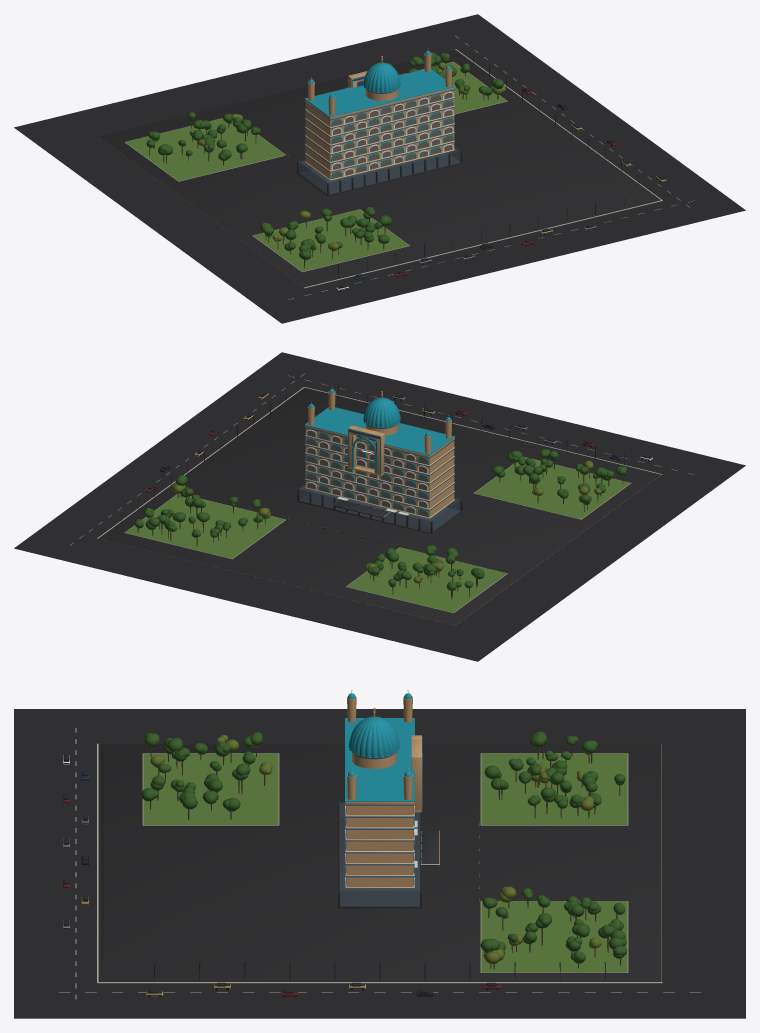
Rendered from cmv4yshkj00kf7dsc7r51nlwx.glb.
3 views of the same model, one above another, from view 1: azimuth 30°, elevation 25°; view 2: azimuth 150°, elevation 25°; view 3: azimuth 270°, elevation 25° (orthographic). The views are drawn at different scales.
Visible parts, largest first — view 1: site, roof, podium, floor-4, floor-1, floor-3, floor-6, floor-2, floor-5, floor-7; view 2: site, roof, podium, floor-1, floor-3, floor-2, floor-4, floor-5, floor-6, floor-7; view 3: site, roof, podium, floor-2, floor-3, floor-4, floor-5, floor-6, floor-1, floor-7.
Boxes of the visible parts, x1,y1,x2,y2 form: site: (14,14,745,323); roof: (304,49,454,119); podium: (297,146,462,196); floor-4: (305,115,454,154); floor-1: (305,141,454,180); floor-3: (305,124,455,163); floor-6: (305,98,454,136); floor-2: (305,133,454,171); floor-5: (305,107,454,145); floor-7: (304,89,454,128); site: (14,352,745,661); roof: (305,387,455,476); podium: (297,484,462,534); floor-1: (305,479,454,518); floor-3: (304,462,454,501); floor-2: (305,471,454,509); floor-4: (305,453,454,492); floor-5: (305,445,454,483); floor-6: (305,436,454,474); floor-7: (305,427,455,466); site: (14,709,745,1018); roof: (345,690,422,812); podium: (337,802,439,908); floor-2: (345,864,414,876); floor-3: (345,852,414,864); floor-4: (345,840,414,852); floor-5: (345,828,414,840); floor-6: (345,816,414,828); floor-1: (345,876,414,887); floor-7: (345,805,414,816).
Size of the model in its own units: 195 by 45.76 by 195.
